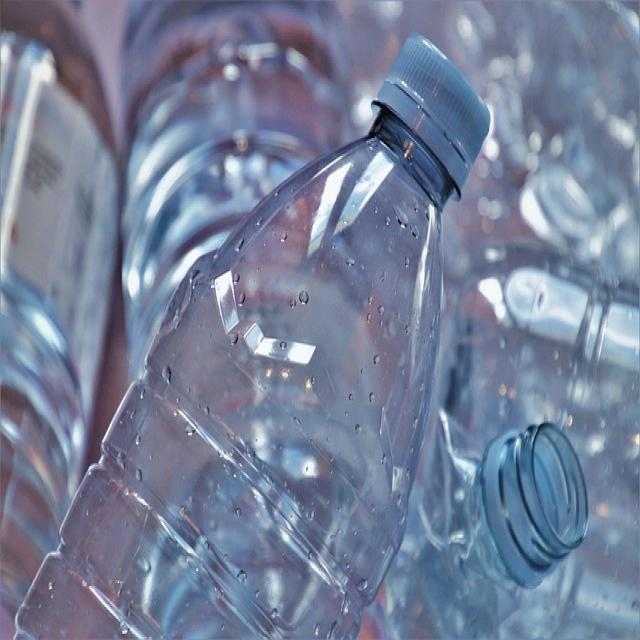plastic: (184, 127, 434, 577)
